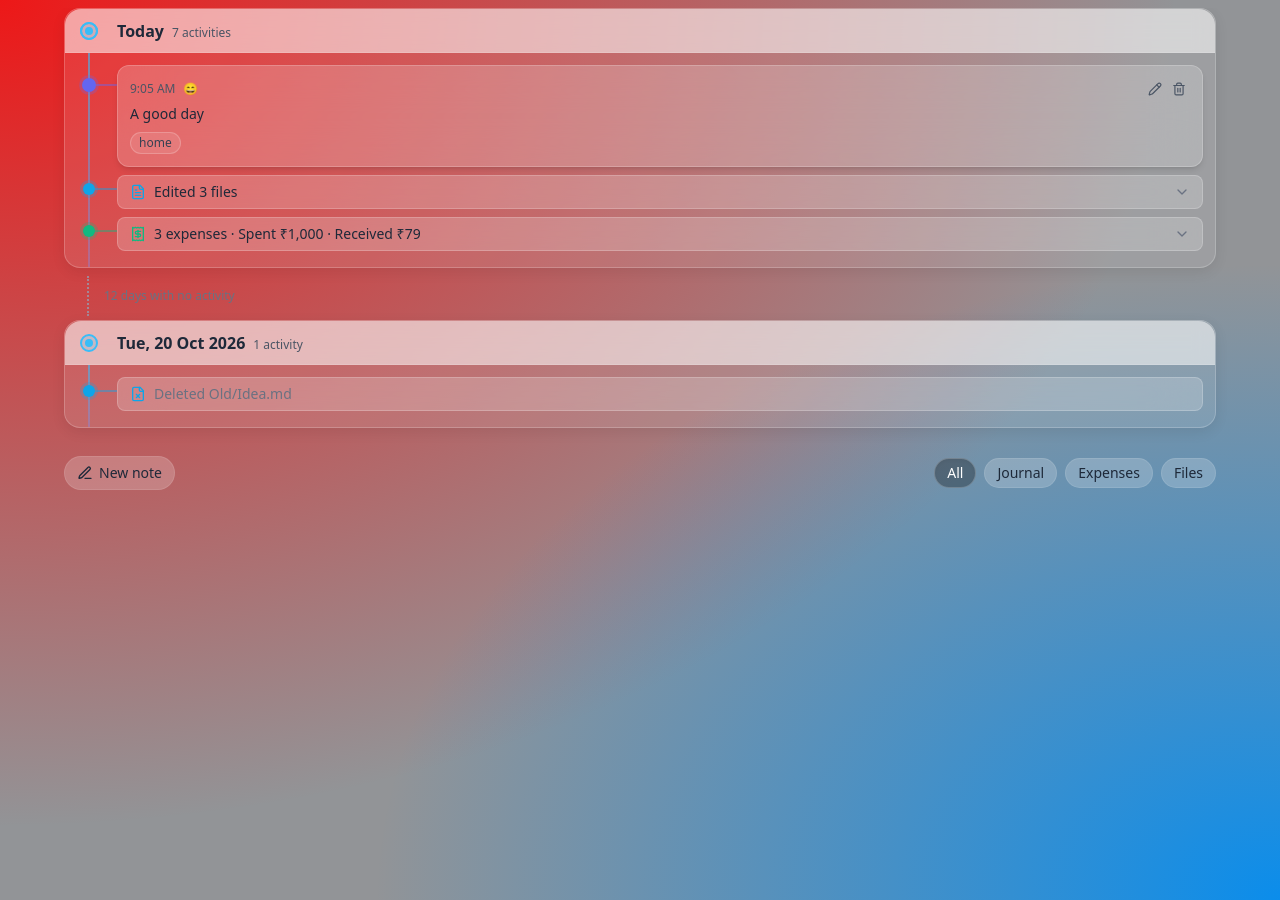
it: Timeline › keeps the note composer hidden until toggled
Click the button "New note". click: click(120, 473)
box: [64,456,175,490]
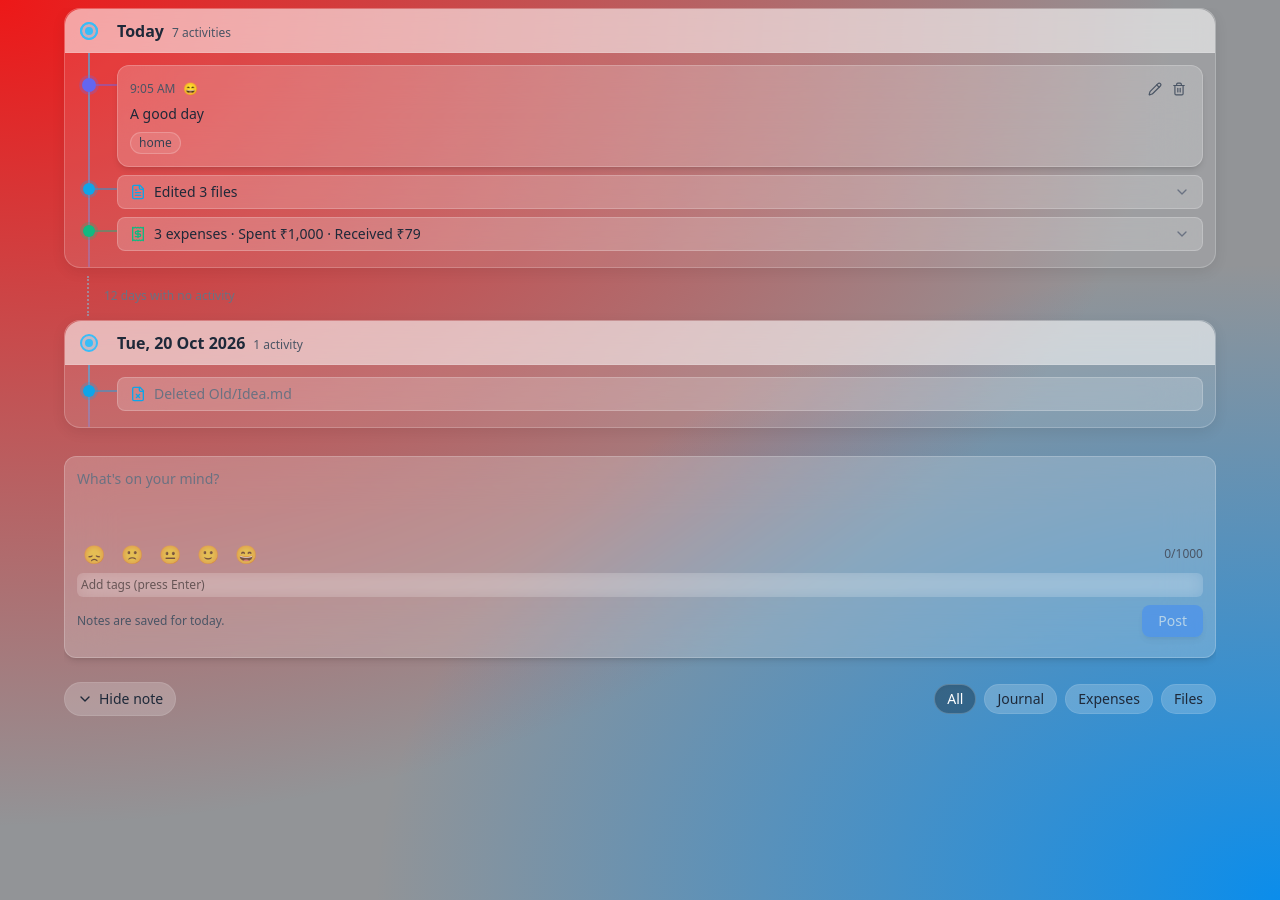
Now the form named "Write a journal note" is shown, box [64,456,1216,658]
